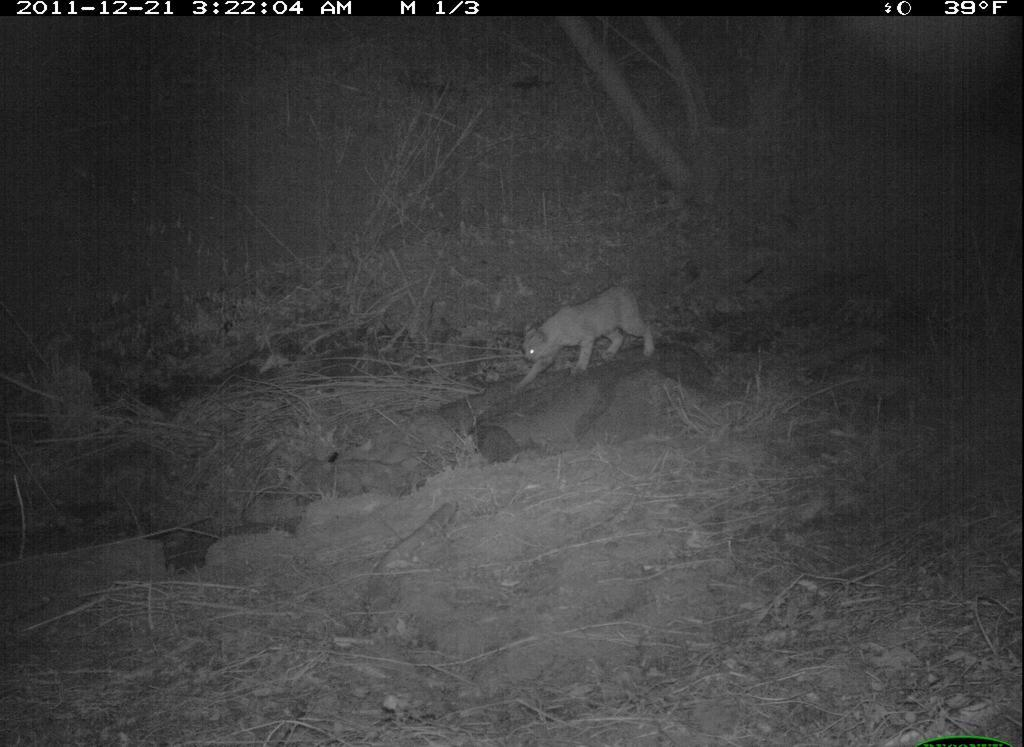bobcat: (511, 276, 661, 392)
